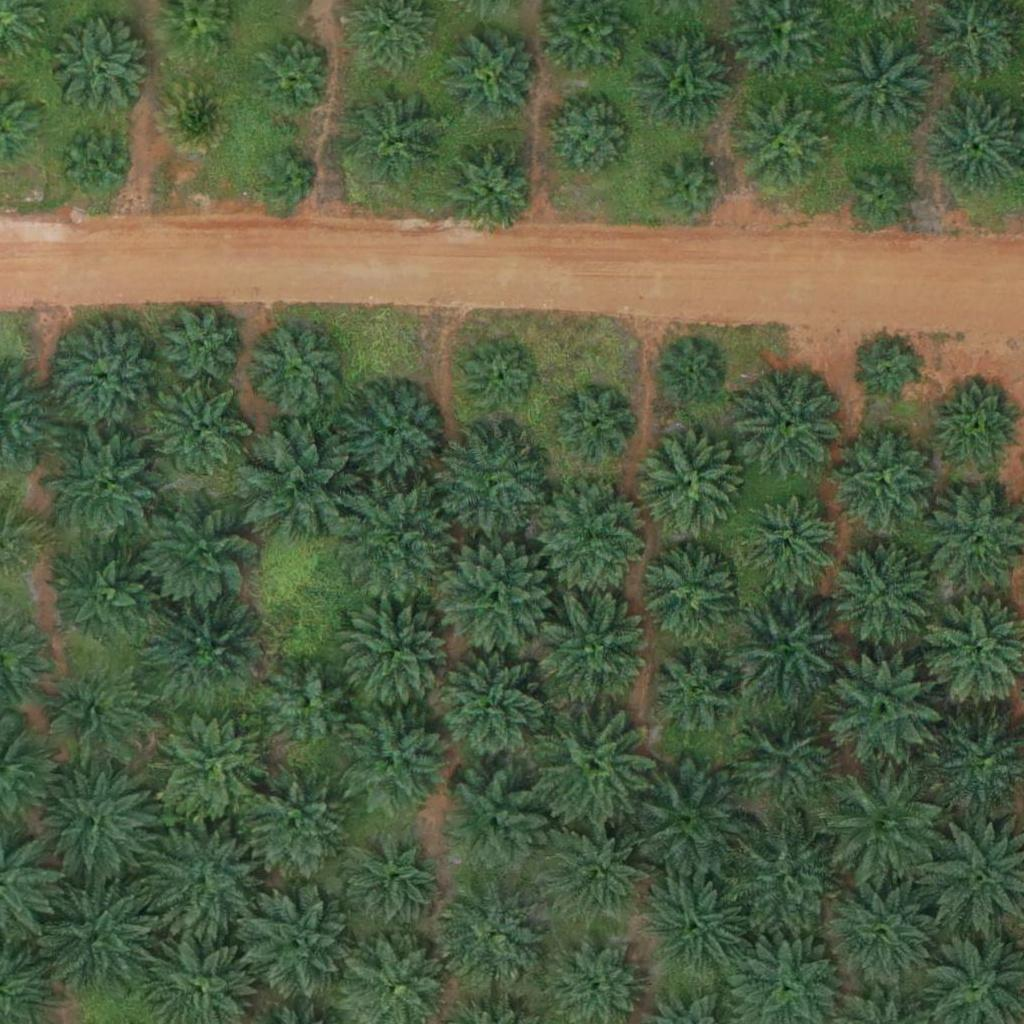Kelapa_Sawit: (42, 419, 167, 545), (137, 489, 262, 615), (234, 422, 359, 548), (337, 481, 462, 607), (431, 646, 556, 772), (532, 588, 657, 714), (531, 703, 656, 829), (627, 759, 752, 885), (723, 579, 848, 705), (722, 698, 847, 824), (722, 814, 847, 940), (823, 648, 948, 774), (821, 766, 946, 892), (821, 868, 946, 994), (343, 599, 456, 713), (435, 884, 548, 998), (41, 769, 154, 882), (341, 704, 454, 817), (334, 822, 447, 935), (435, 770, 548, 883), (535, 481, 648, 594), (37, 881, 150, 994), (438, 537, 550, 651), (543, 816, 655, 930), (51, 541, 163, 654), (38, 657, 150, 770), (150, 594, 262, 707), (155, 713, 267, 826), (148, 823, 260, 936), (236, 768, 348, 881), (433, 422, 545, 535), (240, 884, 352, 997), (832, 32, 932, 133), (733, 93, 833, 194), (634, 35, 734, 136), (52, 322, 152, 423), (640, 431, 740, 532), (639, 546, 739, 647), (742, 372, 842, 473), (736, 493, 836, 594), (833, 429, 933, 530), (833, 541, 933, 642), (440, 137, 540, 237), (346, 87, 446, 187), (52, 19, 152, 119), (151, 379, 251, 479), (341, 385, 441, 485), (646, 642, 746, 742), (645, 873, 745, 973), (545, 93, 633, 181), (265, 660, 353, 748), (450, 33, 537, 121), (157, 300, 244, 388), (251, 326, 338, 414), (462, 343, 537, 419), (651, 152, 726, 228), (256, 37, 331, 113), (160, 78, 235, 154), (58, 127, 133, 203), (559, 387, 634, 462), (847, 160, 922, 235), (660, 341, 723, 404), (258, 150, 320, 213), (860, 339, 922, 402)
